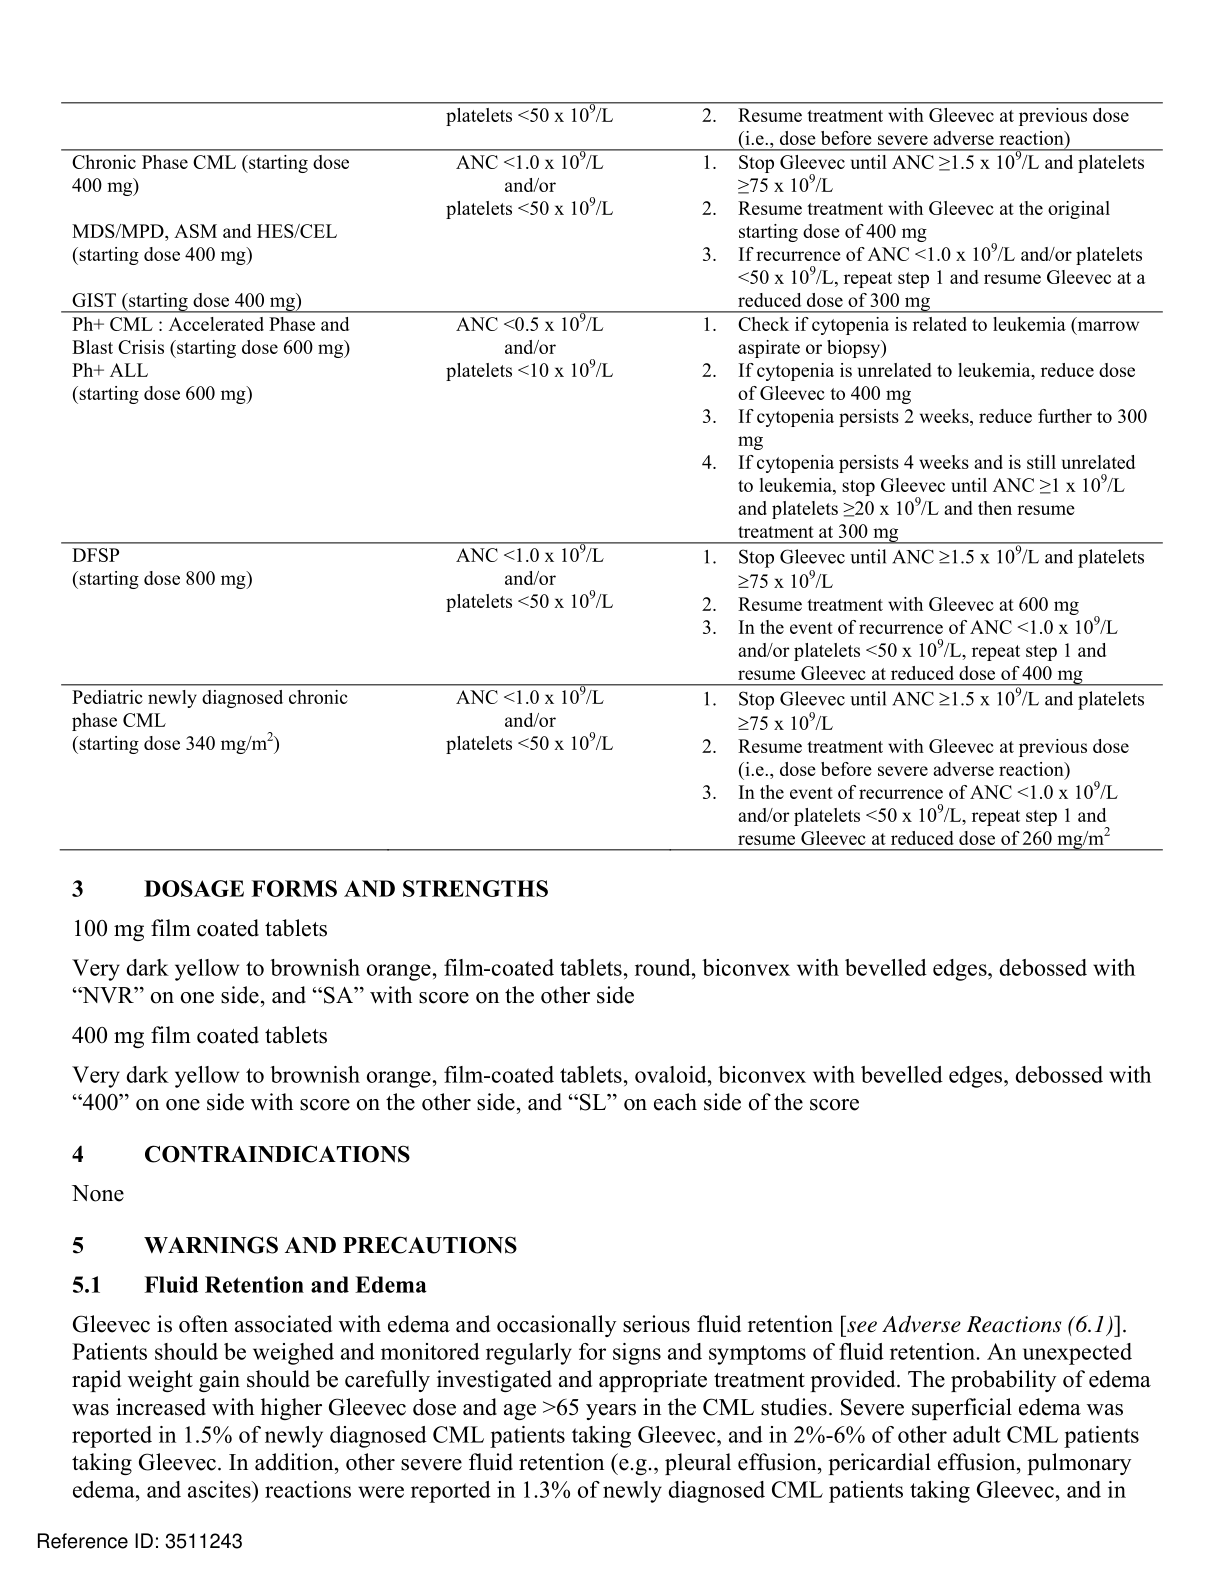partial_lined: (60, 102, 1164, 851)
